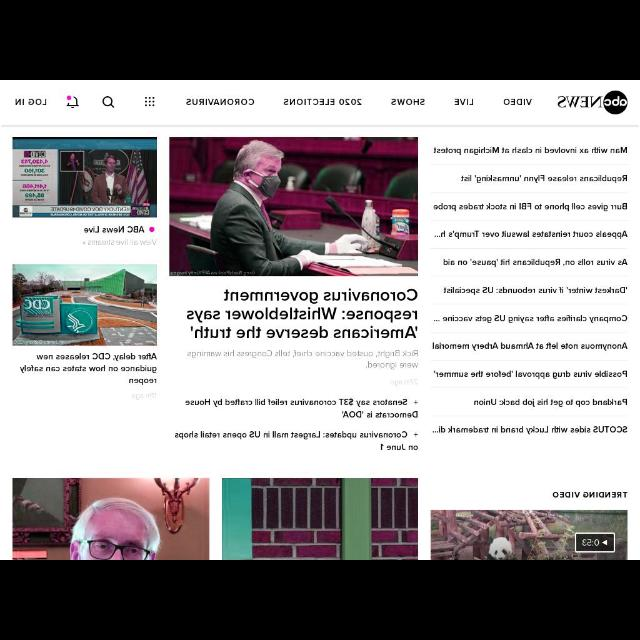icon: (66, 95, 78, 108), (102, 96, 114, 108), (145, 97, 155, 107)
image: (170, 137, 418, 277), (12, 478, 210, 560), (222, 478, 418, 560), (12, 136, 158, 218), (12, 264, 156, 346), (431, 509, 627, 558), (556, 91, 628, 115)
text: (186, 288, 418, 338), (19, 352, 157, 386), (185, 398, 418, 418), (186, 350, 418, 370), (175, 432, 418, 451), (433, 146, 627, 156), (433, 202, 627, 212), (432, 342, 626, 352), (434, 370, 626, 380), (442, 258, 628, 268), (443, 286, 627, 296), (433, 316, 627, 324), (432, 426, 626, 434), (434, 231, 626, 239), (461, 175, 627, 183), (473, 399, 627, 407), (82, 238, 158, 246), (284, 98, 362, 105), (84, 226, 144, 234), (186, 98, 254, 105), (552, 492, 628, 498), (390, 98, 424, 105), (390, 379, 418, 387), (503, 98, 532, 105), (16, 99, 46, 105), (132, 394, 156, 401), (454, 98, 474, 105)
toolbar: (1, 80, 640, 124)
